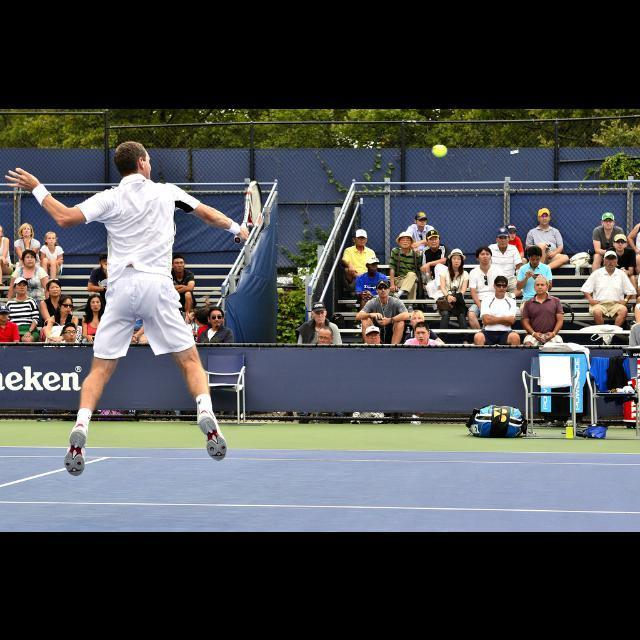tennis-ball: (430, 143, 448, 158)
